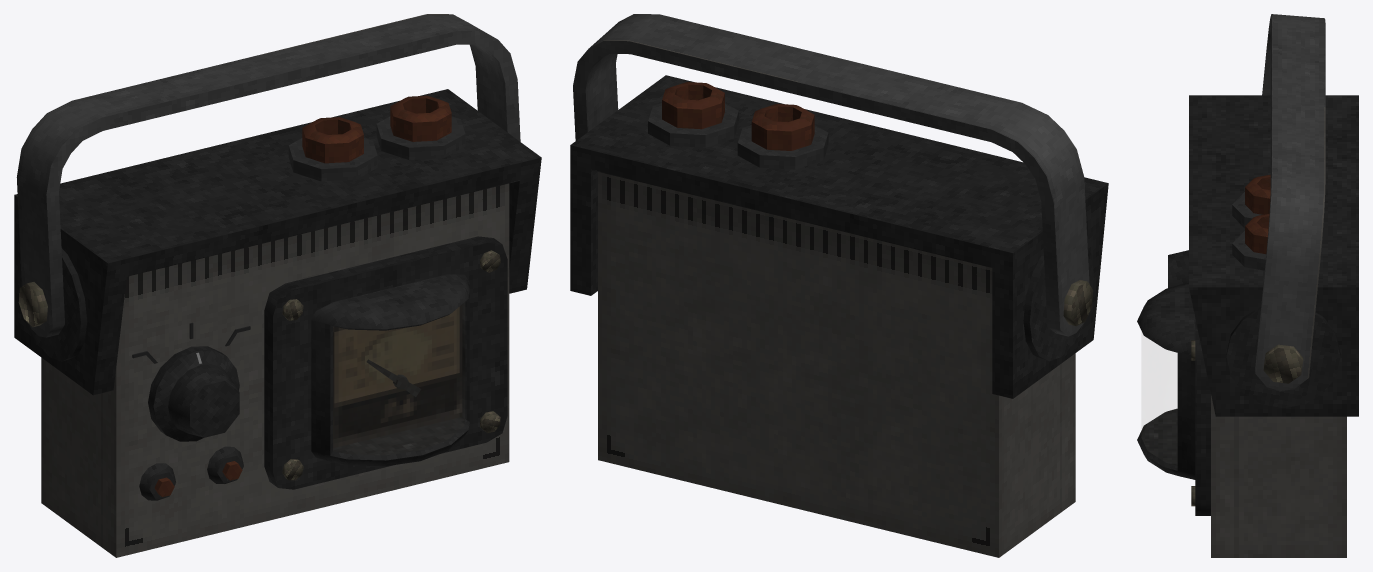
The model's file is signal_receiver_etx_1.glb.
The picture shows the model from 3 angles, left to right: view 1: azimuth 30°, elevation 25°; view 2: azimuth 150°, elevation 25°; view 3: azimuth 270°, elevation 25°; orthographic projection. The views are drawn at different scales.
Parts seen in each view (by area): view 1: signal_receiver_etx_1, signal_receiver_etx_1_knob_child; view 2: signal_receiver_etx_1; view 3: signal_receiver_etx_1, signal_receiver_etx_1_knob_child.
Boxes of the visible parts, bbox=[...] form: signal_receiver_etx_1: bbox=[14, 14, 541, 557]; signal_receiver_etx_1_knob_child: bbox=[148, 346, 239, 441]; signal_receiver_etx_1: bbox=[570, 14, 1108, 557]; signal_receiver_etx_1: bbox=[1137, 14, 1358, 557]; signal_receiver_etx_1_knob_child: bbox=[1168, 250, 1188, 287].
Size of the model in its own units: 0.3321 by 0.2684 by 0.1448.
Materials: 3 (3 with a texture image).
